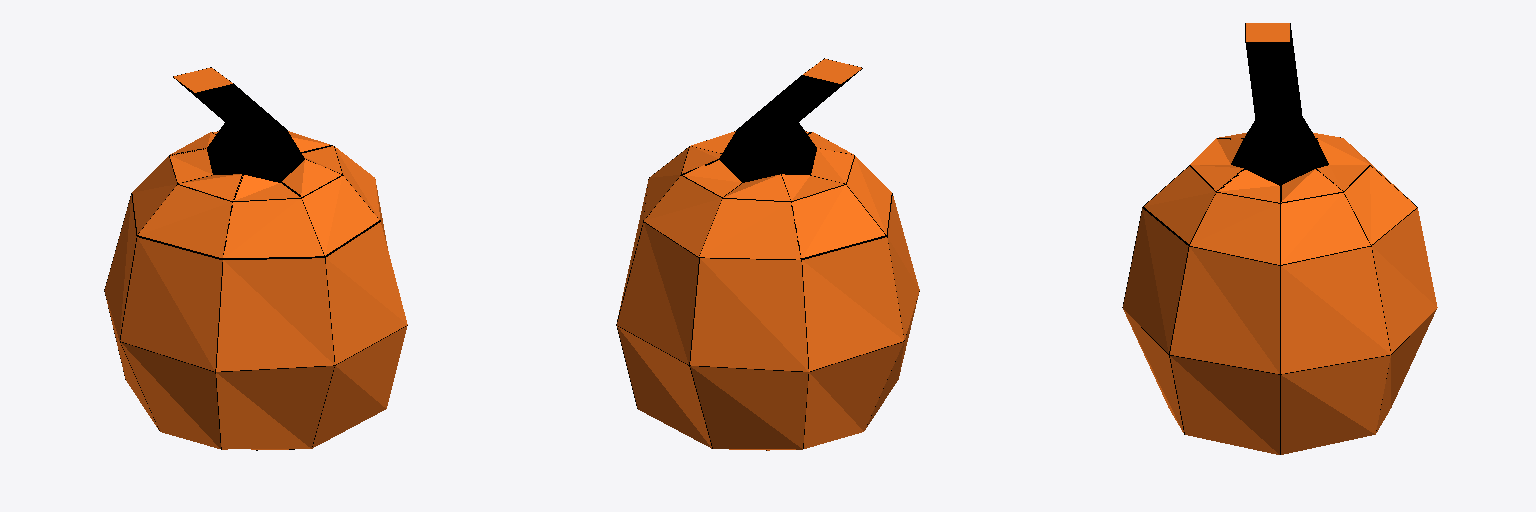
3 renders of one model, left to right at view 1: azimuth 30°, elevation 25°; view 2: azimuth 150°, elevation 25°; view 3: azimuth 270°, elevation 25°, orthographic.
Visible parts, largest first — view 1: Cube; view 2: Cube; view 3: Cube.
Boxes of the visible parts, x1,y1,x2,y2 form: Cube: [104, 67, 407, 450]; Cube: [616, 58, 919, 450]; Cube: [1122, 23, 1437, 454].
Bounding box in the file's own units: 1.4 × 1.9 × 1.4.
Materials: 1 (1 with a texture image).